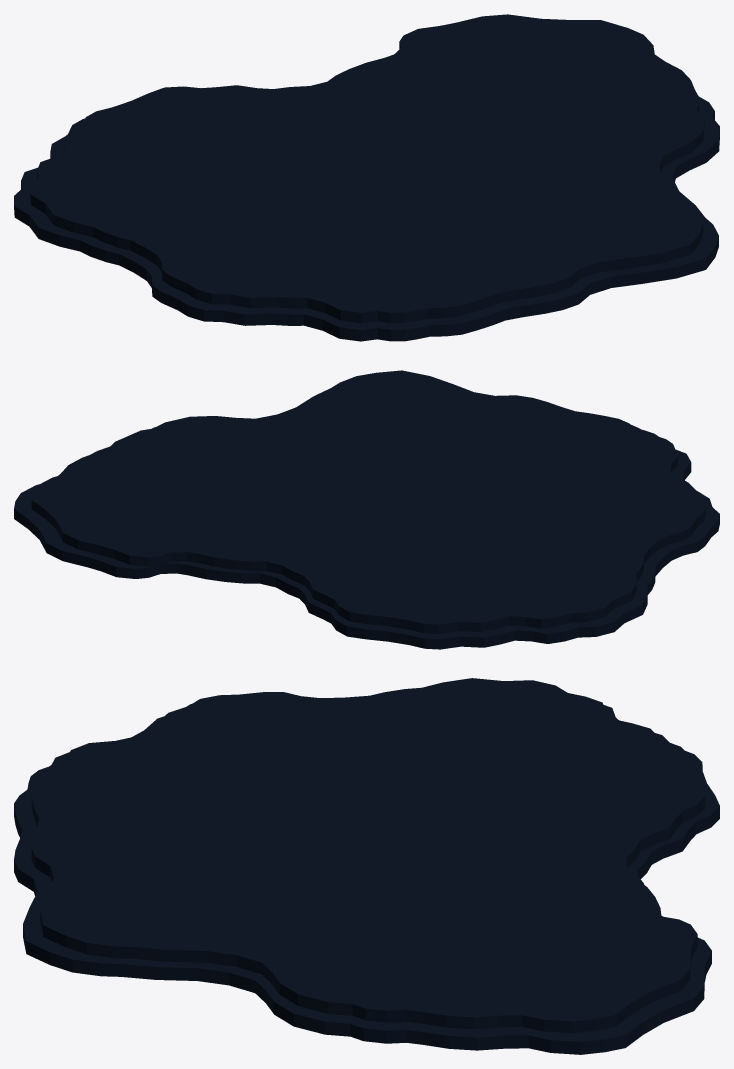
Rendered from land_02.fbx.
The picture shows the model from 3 angles, top to bottom: view 1: azimuth 30°, elevation 25°; view 2: azimuth 150°, elevation 25°; view 3: azimuth 270°, elevation 25°; orthographic projection. The views are drawn at different scales.
Visible parts, largest first — view 1: land_02; view 2: land_02; view 3: land_02.
Boxes of the visible parts, x1=… form: land_02: x1=14, y1=14, x2=719, y2=341; land_02: x1=14, y1=370, x2=719, y2=649; land_02: x1=14, y1=678, x2=719, y2=1054.
Size of the model in its own units: 1237 by 39.4 by 1026.
